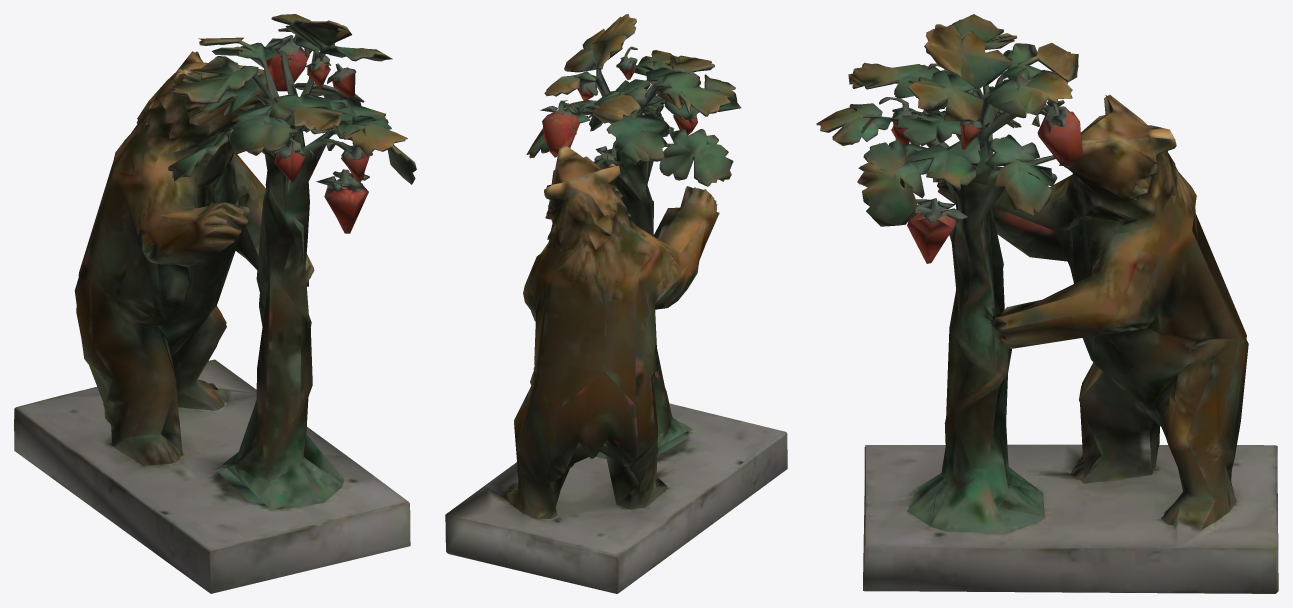
Rendered from madrid-oso.glb.
The picture shows the model from 3 angles, left to right: view 1: azimuth 30°, elevation 25°; view 2: azimuth 150°, elevation 25°; view 3: azimuth 270°, elevation 25°; orthographic projection. The views are drawn at different scales.
Visible parts, largest first — view 1: geometry_0; view 2: geometry_0; view 3: geometry_0.
Part boxes in pixels (x1=…): geometry_0: x1=14, y1=14, x2=416, y2=593; geometry_0: x1=445, y1=14, x2=787, y2=593; geometry_0: x1=816, y1=14, x2=1278, y2=593.
Bounding box in the file's own units: 0.4536 × 0.9991 × 0.7735.
Materials: 1 (1 with a texture image).
